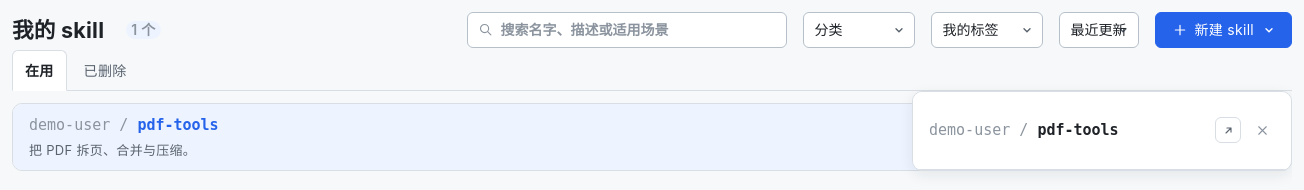
it: the preview beside the list › closes from its own button and takes `sel` out of the address
The width and height of the screenshot is (1304, 190).
Step 1. Click the button named "关闭预览" → (1262, 130), box [1249,117,1275,143]
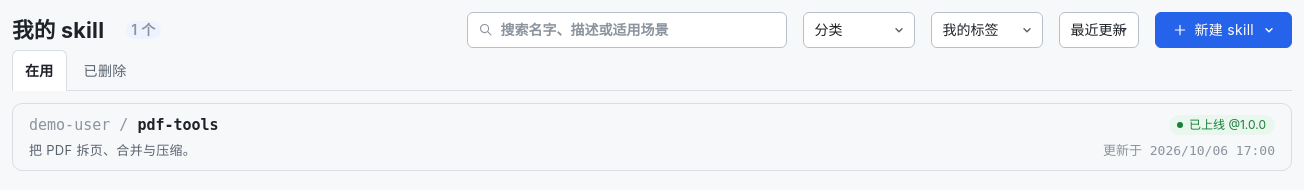
Check: the element with id "skillPreview" is gone
